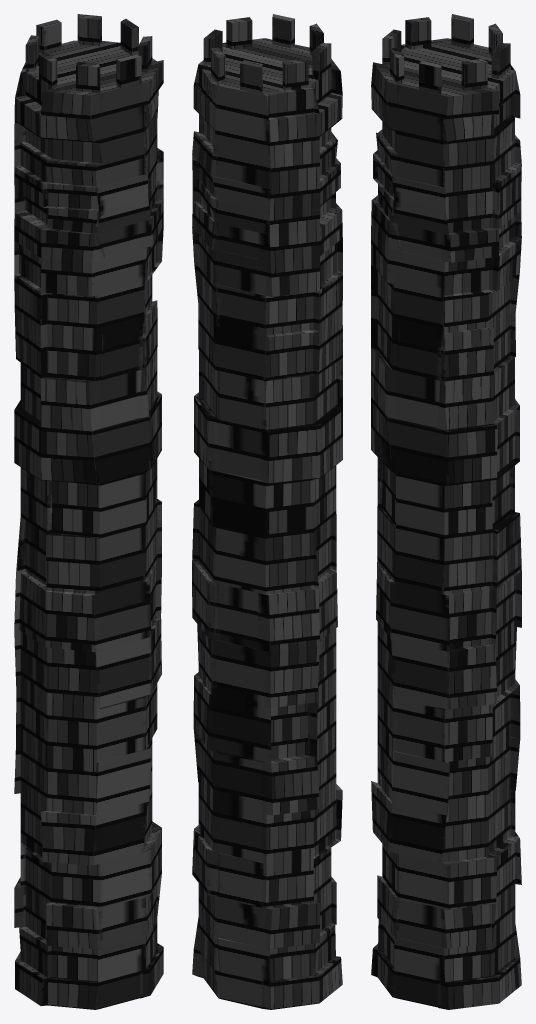
Rendered from Tower.glb.
The picture shows the model from 3 angles, left to right: view 1: azimuth 30°, elevation 25°; view 2: azimuth 150°, elevation 25°; view 3: azimuth 330°, elevation 25°; orthographic projection.
Visible parts, largest first — view 1: Cube.001; view 2: Cube.001; view 3: Cube.001.
Part boxes in pixels (box(x1,y1,x2,y2)): Cube.001: box(14, 14, 163, 1009); Cube.001: box(192, 14, 342, 1009); Cube.001: box(371, 14, 521, 1009).
Size of the model in its own units: 4.04 by 28.52 by 3.42.
1 material, 1 textured.
